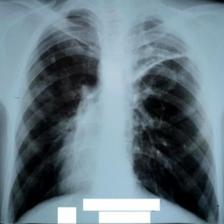tuberculosis: (7, 1, 221, 224)
